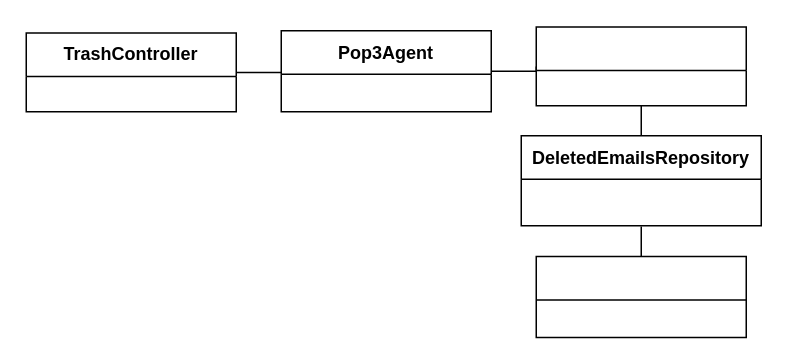
Image size: 788x363. Some labels were removed from this diagram. Each missing label, with the centre of its shape:
"DeletedEmails" goes at point (640, 296).
"DeletedEmailsService" goes at point (640, 66).
